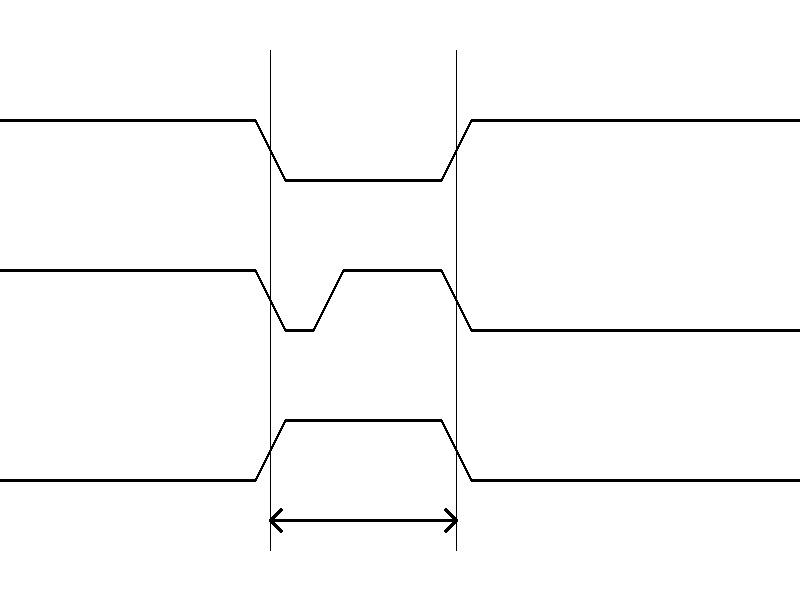double_arrow: (270, 505, 456, 535)
